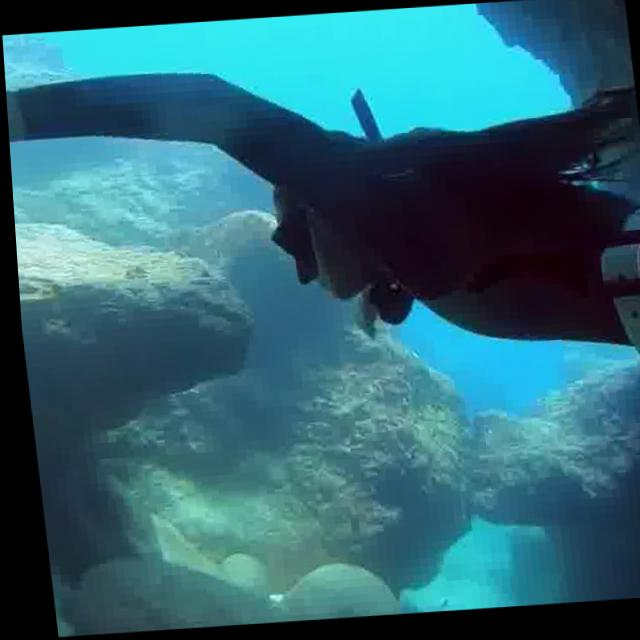human: (0, 0, 640, 543)
